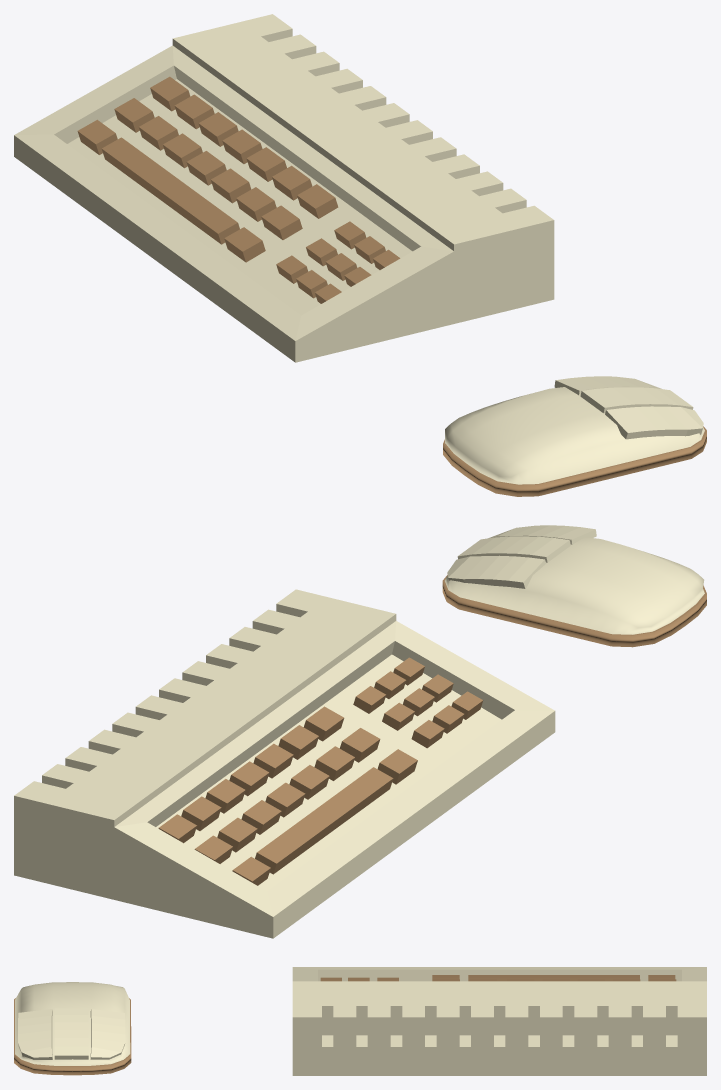
Rendered from Keyboard&Mouse_tier5.fbx.
3 views of the same model, one above another, from view 1: azimuth 30°, elevation 25°; view 2: azimuth 150°, elevation 25°; view 3: azimuth 270°, elevation 25° (orthographic). The views are drawn at different scales.
Visible parts, largest first — view 1: Cube, Cube.023, Cube.024, Cube.002; view 2: Cube, Cube.023, Cube.024, Cube.002; view 3: Cube, Cube.024, Cube.002, Cube.023.
Part boxes in pixels (x1,y1,x2,y2): Cube: [14, 14, 554, 362]; Cube.023: [77, 76, 400, 303]; Cube.024: [443, 387, 706, 496]; Cube.002: [554, 376, 703, 439]; Cube: [14, 589, 555, 938]; Cube.023: [158, 657, 483, 885]; Cube.024: [442, 537, 706, 647]; Cube.002: [447, 525, 596, 588]; Cube: [292, 967, 706, 1075]; Cube.024: [14, 982, 131, 1075]; Cube.002: [18, 1008, 125, 1059]; Cube.023: [320, 975, 676, 981].
Bounding box in the file's own units: 0.3689 × 0.1192 × 1.16.
